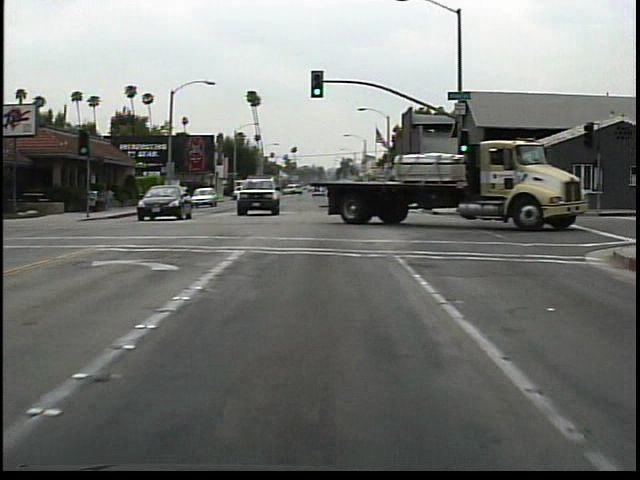person: (177, 182, 193, 206)
